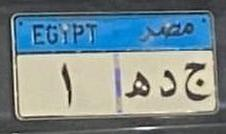1: (59, 58, 76, 107)
daal: (156, 66, 179, 101)
haa: (121, 65, 152, 103)
jeem: (182, 60, 210, 108)
